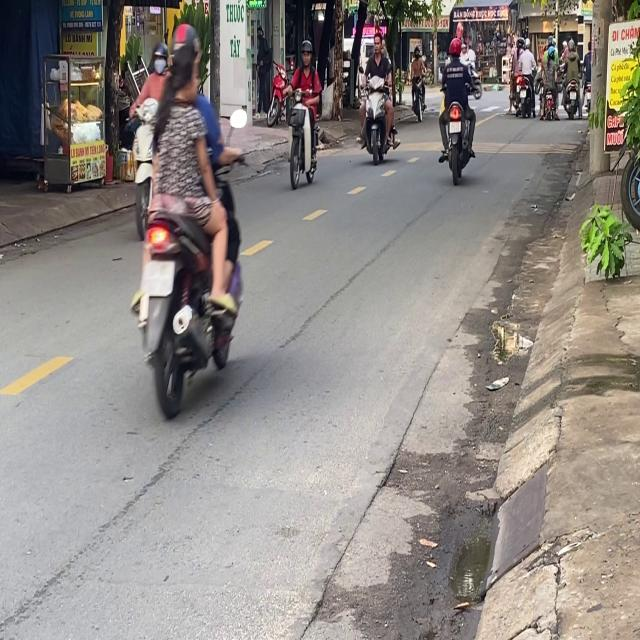helmet: (168, 21, 200, 79), (150, 41, 169, 75), (299, 38, 312, 66), (448, 36, 462, 58)
licenseplate: (128, 19, 247, 413), (284, 37, 324, 188), (436, 36, 477, 182), (357, 27, 398, 163)
motorcyclist: (168, 46, 201, 98), (372, 30, 384, 55)
nohelmet: (142, 260, 174, 294), (449, 121, 461, 133)
